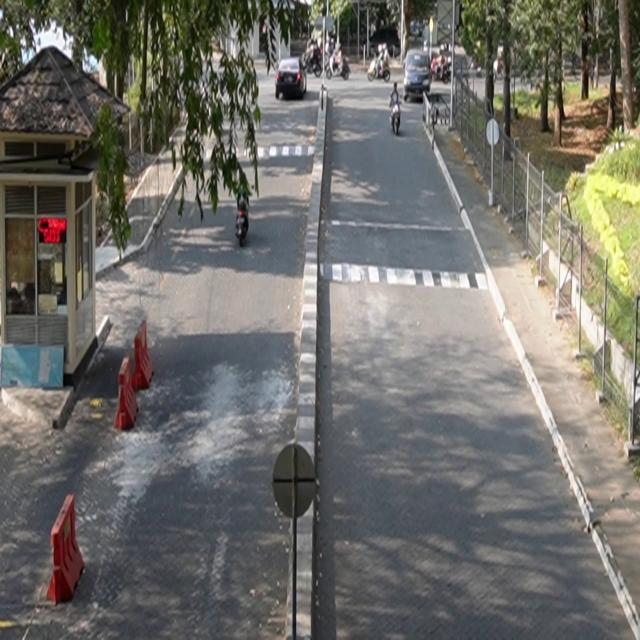car: (404, 50, 432, 102), (276, 57, 308, 100)
